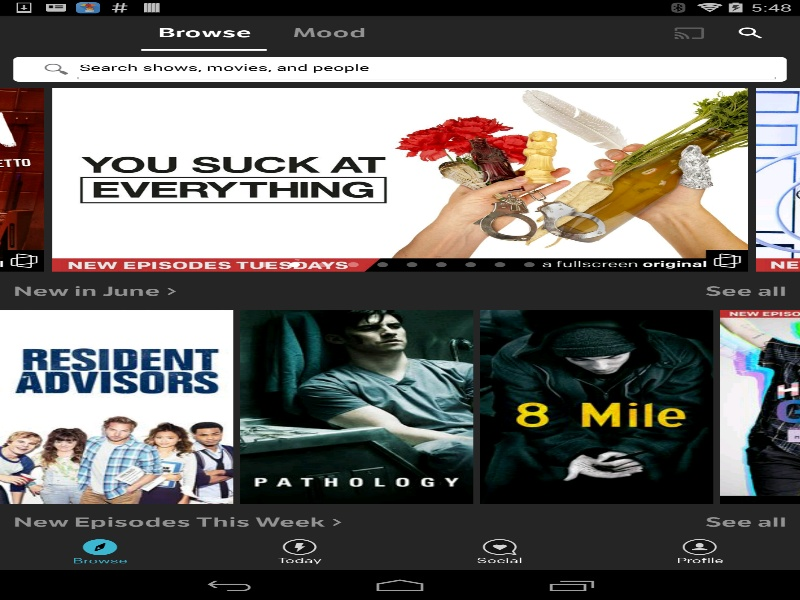Input: (79, 55, 774, 78)
